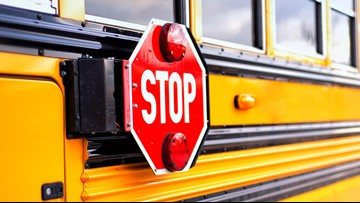stop: (121, 17, 215, 176)
